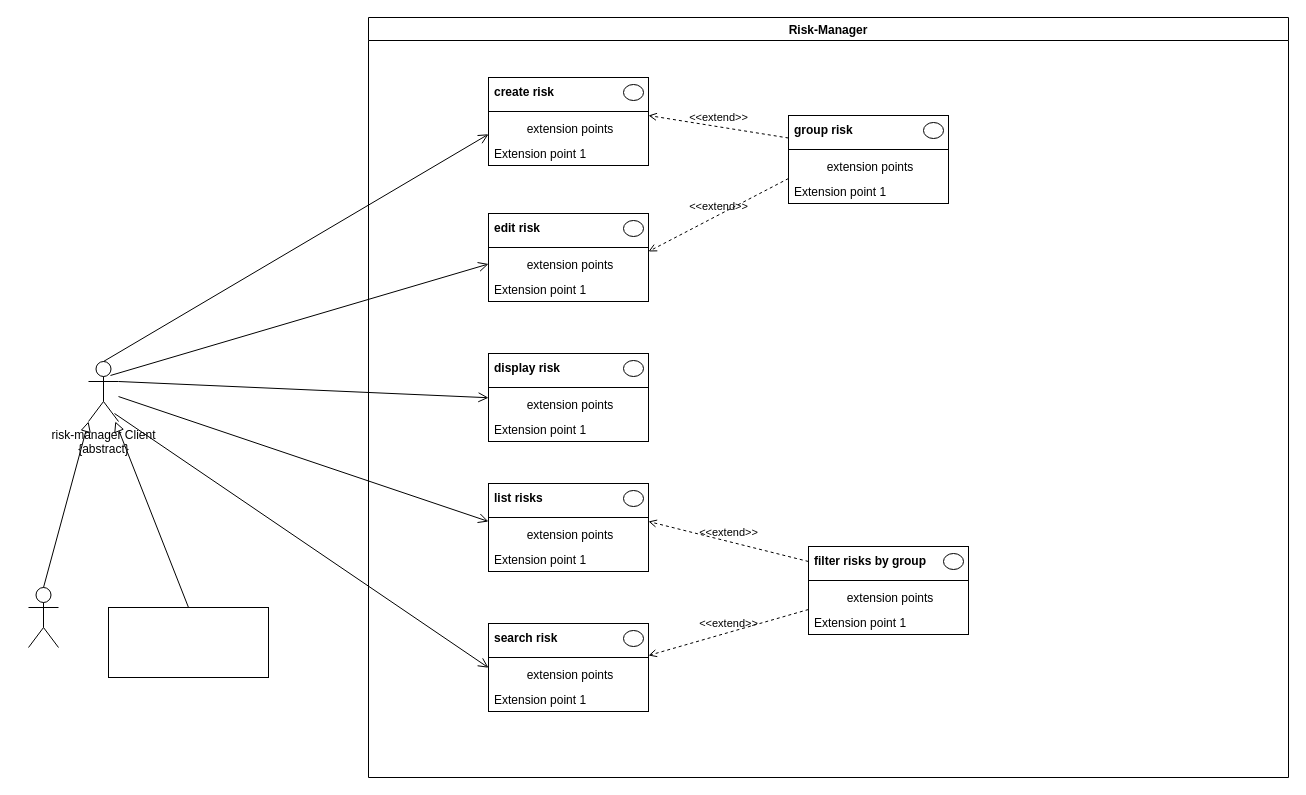
Some shapes in this 1306 by 795 pixel diagram are drawn without their labels. The shapes that lost their labels are listed below. From the top down, each one's centre as x and y in pixels, then its label:
At point 43,617: "develoüer {abstract}".
At point 188,642: "<<actor>> projekmanagement-tool {abstract}".
